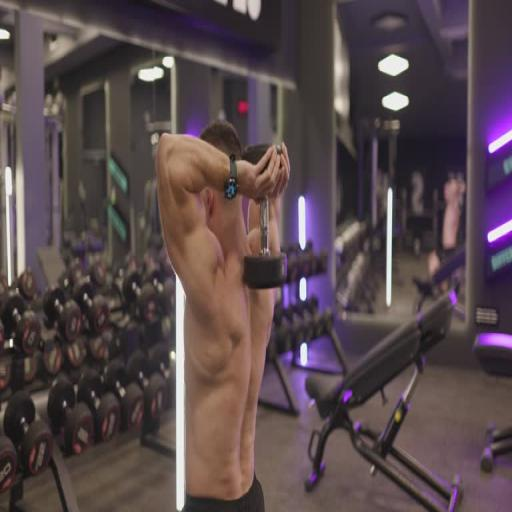Person: (132, 156, 306, 400)
no_gloves: (229, 185, 279, 227), (270, 180, 296, 238)
no_helmet: (188, 164, 257, 224)
none: (164, 194, 274, 395)
